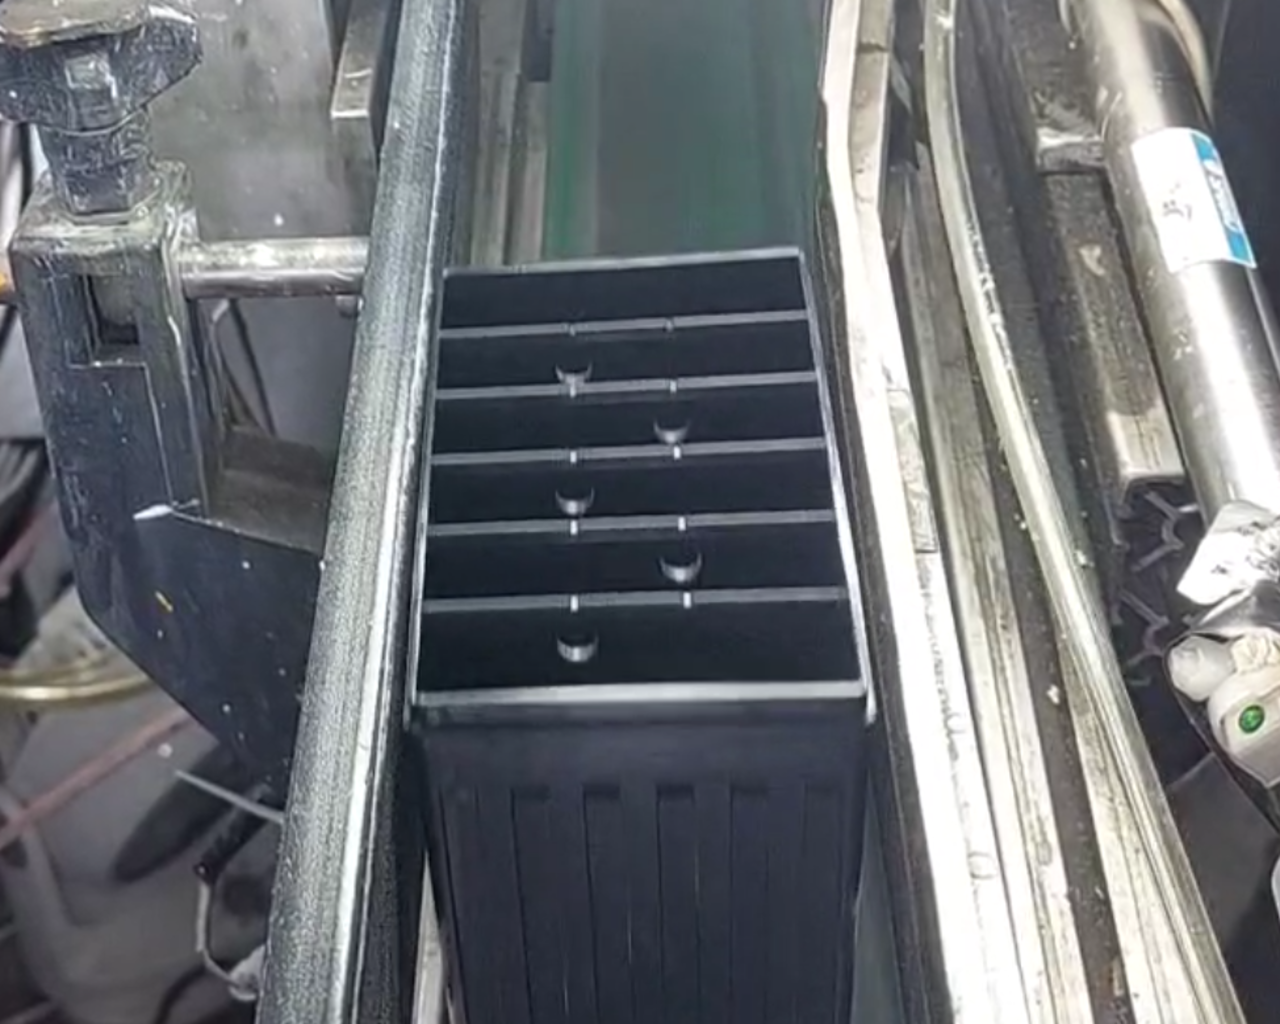box: (382, 229, 902, 743)
round: (536, 455, 615, 528), (639, 523, 715, 596), (537, 607, 616, 673), (639, 391, 707, 455), (541, 338, 607, 393)
